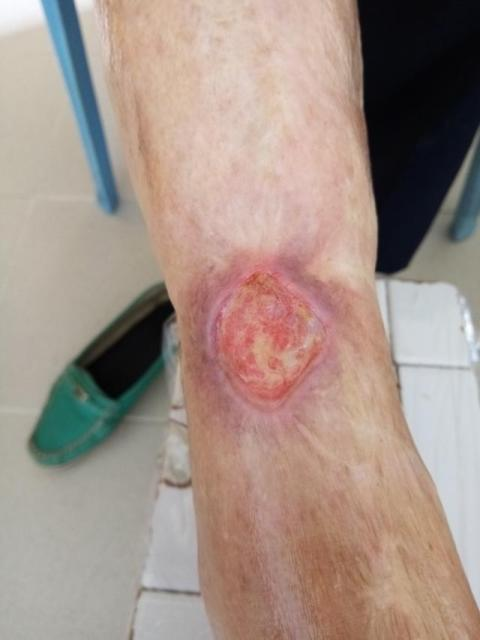wound: (205, 267, 332, 415)
